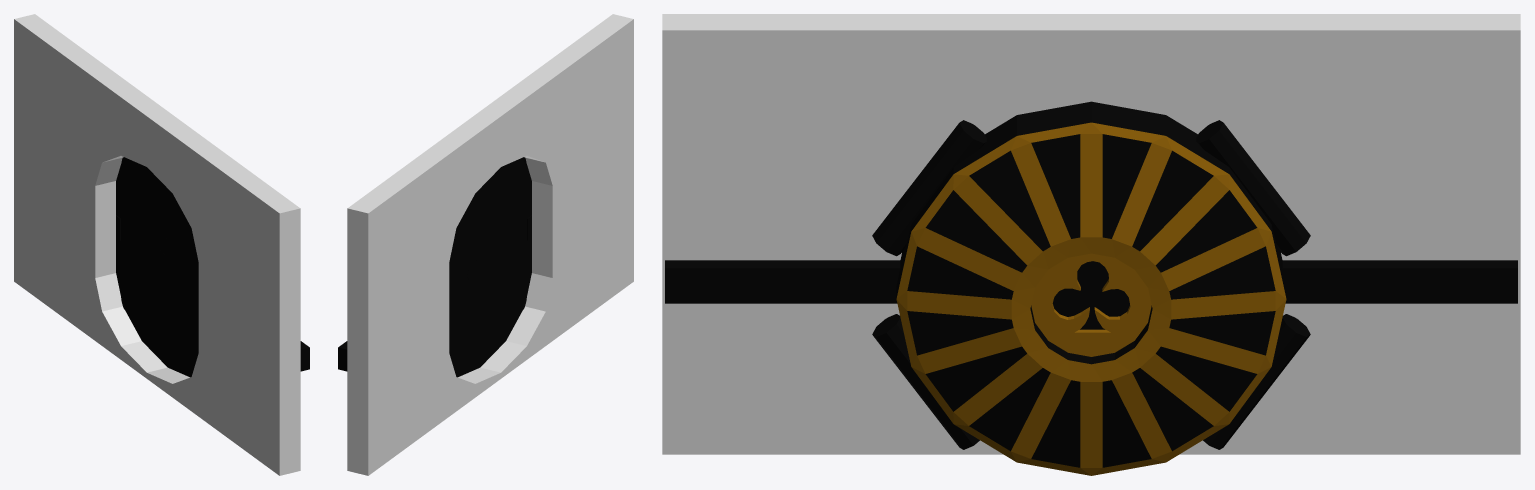
File: CasinoDoor.fbx
3 renders of one model, left to right at view 1: azimuth 30°, elevation 25°; view 2: azimuth 150°, elevation 25°; view 3: azimuth 270°, elevation 25°, orthographic. The views are drawn at different scales.
Parts seen in each view (by area): view 1: Cube, RightDoor, LeftDoor; view 2: Cube, LeftDoor, RightDoor; view 3: Cube, LeftDoor, RightDoor, LeftTrack, RightTrack, LeftCenter, RightCenter.
Boxes of the visible parts, x1=… form: Cube: x1=14, y1=14, x2=300, y2=475; RightDoor: x1=116, y1=157, x2=168, y2=367; LeftDoor: x1=156, y1=189, x2=198, y2=377; Cube: x1=347, y1=14, x2=633, y2=475; LeftDoor: x1=467, y1=157, x2=531, y2=367; RightDoor: x1=449, y1=189, x2=479, y2=377; Cube: x1=662, y1=14, x2=1520, y2=454; LeftDoor: x1=872, y1=101, x2=1102, y2=475; RightDoor: x1=1091, y1=101, x2=1310, y2=475; LeftTrack: x1=665, y1=260, x2=900, y2=303; RightTrack: x1=1282, y1=260, x2=1517, y2=303; LeftCenter: x1=1031, y1=253, x2=1129, y2=356; RightCenter: x1=1091, y1=253, x2=1151, y2=356.
Size of the model in its own units: 0.5842 by 2.4 by 4.4.
